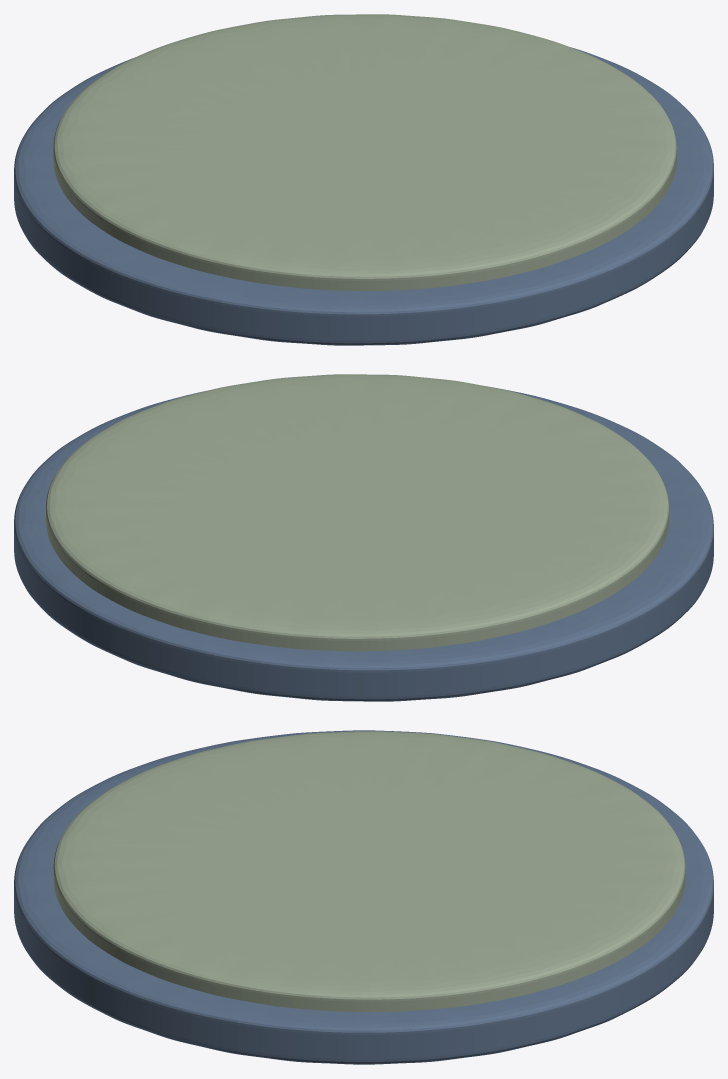
The picture shows the model from 3 angles, top to bottom: view 1: azimuth 30°, elevation 25°; view 2: azimuth 150°, elevation 25°; view 3: azimuth 270°, elevation 25°; orthographic projection.
Parts seen in each view (by area): view 1: footing_02, footing; view 2: footing_02, footing; view 3: footing_02, footing.
Boxes of the visible parts, x1,y1,x2,y2 form: footing_02: (53, 14, 676, 290); footing: (14, 47, 713, 345); footing_02: (46, 374, 668, 651); footing: (14, 386, 713, 701); footing_02: (53, 731, 685, 1011); footing: (14, 730, 713, 1064).
Size of the model in its own units: 11.04 by 1.13 by 10.84.
